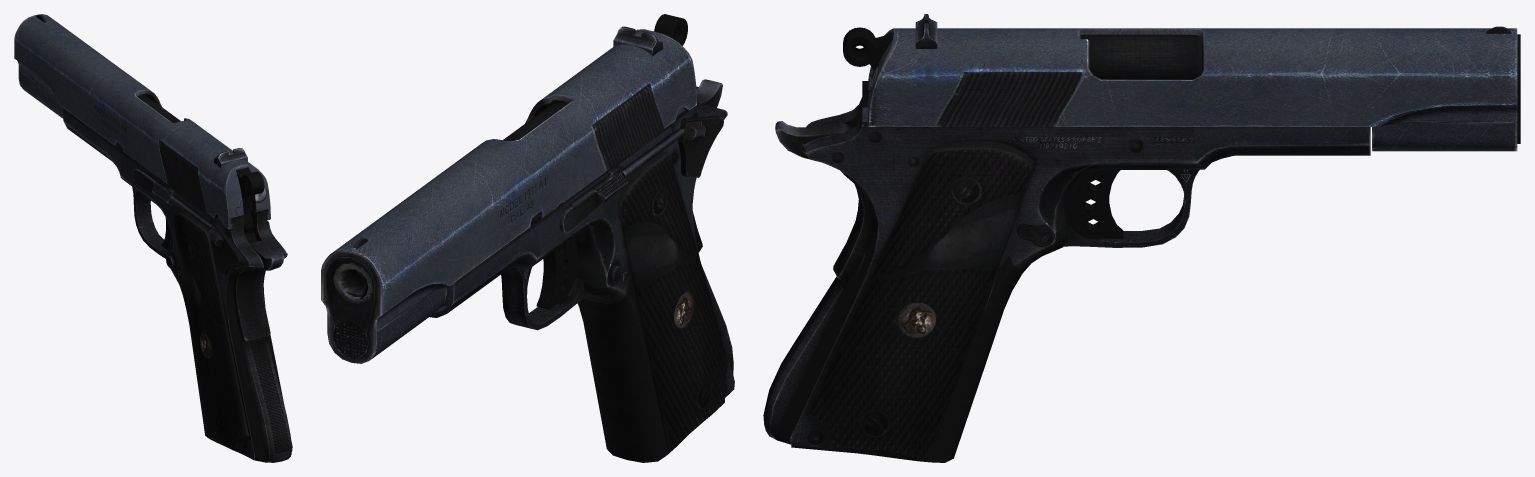
File: gun.fbx
3 views of the same model, side by side, from view 1: azimuth 30°, elevation 25°; view 2: azimuth 150°, elevation 25°; view 3: azimuth 270°, elevation 25° (orthographic). The views are drawn at different scales.
Parts seen in each view (by area): view 1: Handle, Slide, Hammer; view 2: Handle, Slide, Trigger, Hammer; view 3: Handle, Slide, Trigger, Hammer.
Boxes of the visible parts, <box> form: Handle: <box>62,94,292,462</box>; Slide: <box>14,14,270,229</box>; Hammer: <box>236,167,264,232</box>; Handle: <box>333,79,734,462</box>; Slide: <box>321,26,696,363</box>; Trigger: <box>536,237,577,309</box>; Hammer: <box>654,14,687,45</box>; Handle: <box>763,34,1370,462</box>; Slide: <box>867,14,1520,151</box>; Trigger: <box>1064,170,1123,238</box>; Hammer: <box>843,27,892,71</box>.
Size of the model in its own units: 7.64 by 37.93 by 60.32.
1 material, 1 textured.
